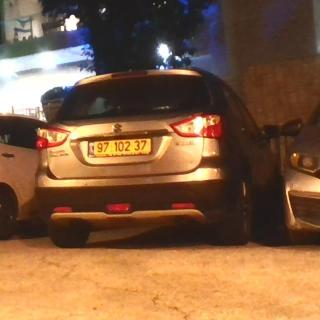LicensePlate: (94, 138, 151, 154)
